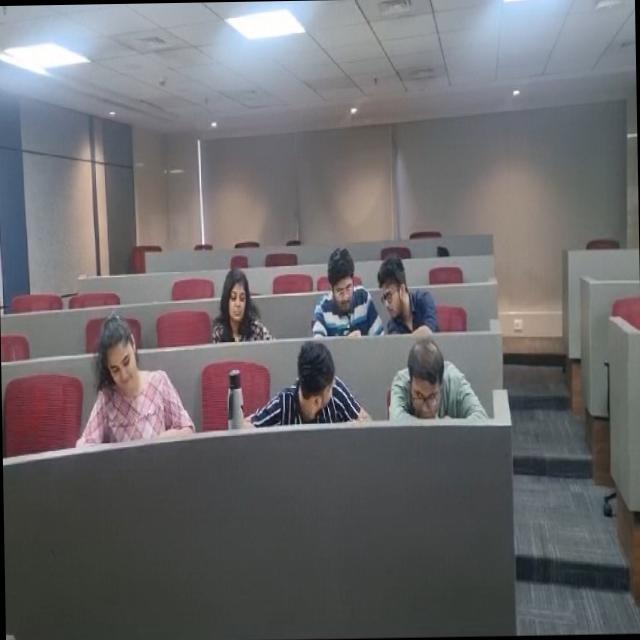cheating: (243, 328, 384, 434), (374, 226, 449, 340), (306, 235, 373, 336)
non-cheating: (76, 298, 170, 456), (384, 323, 489, 440), (210, 240, 263, 342)
